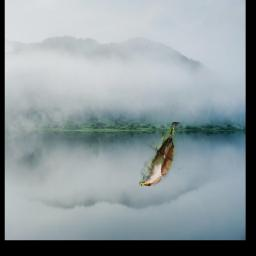Cuckoo: (139, 123, 181, 187)
